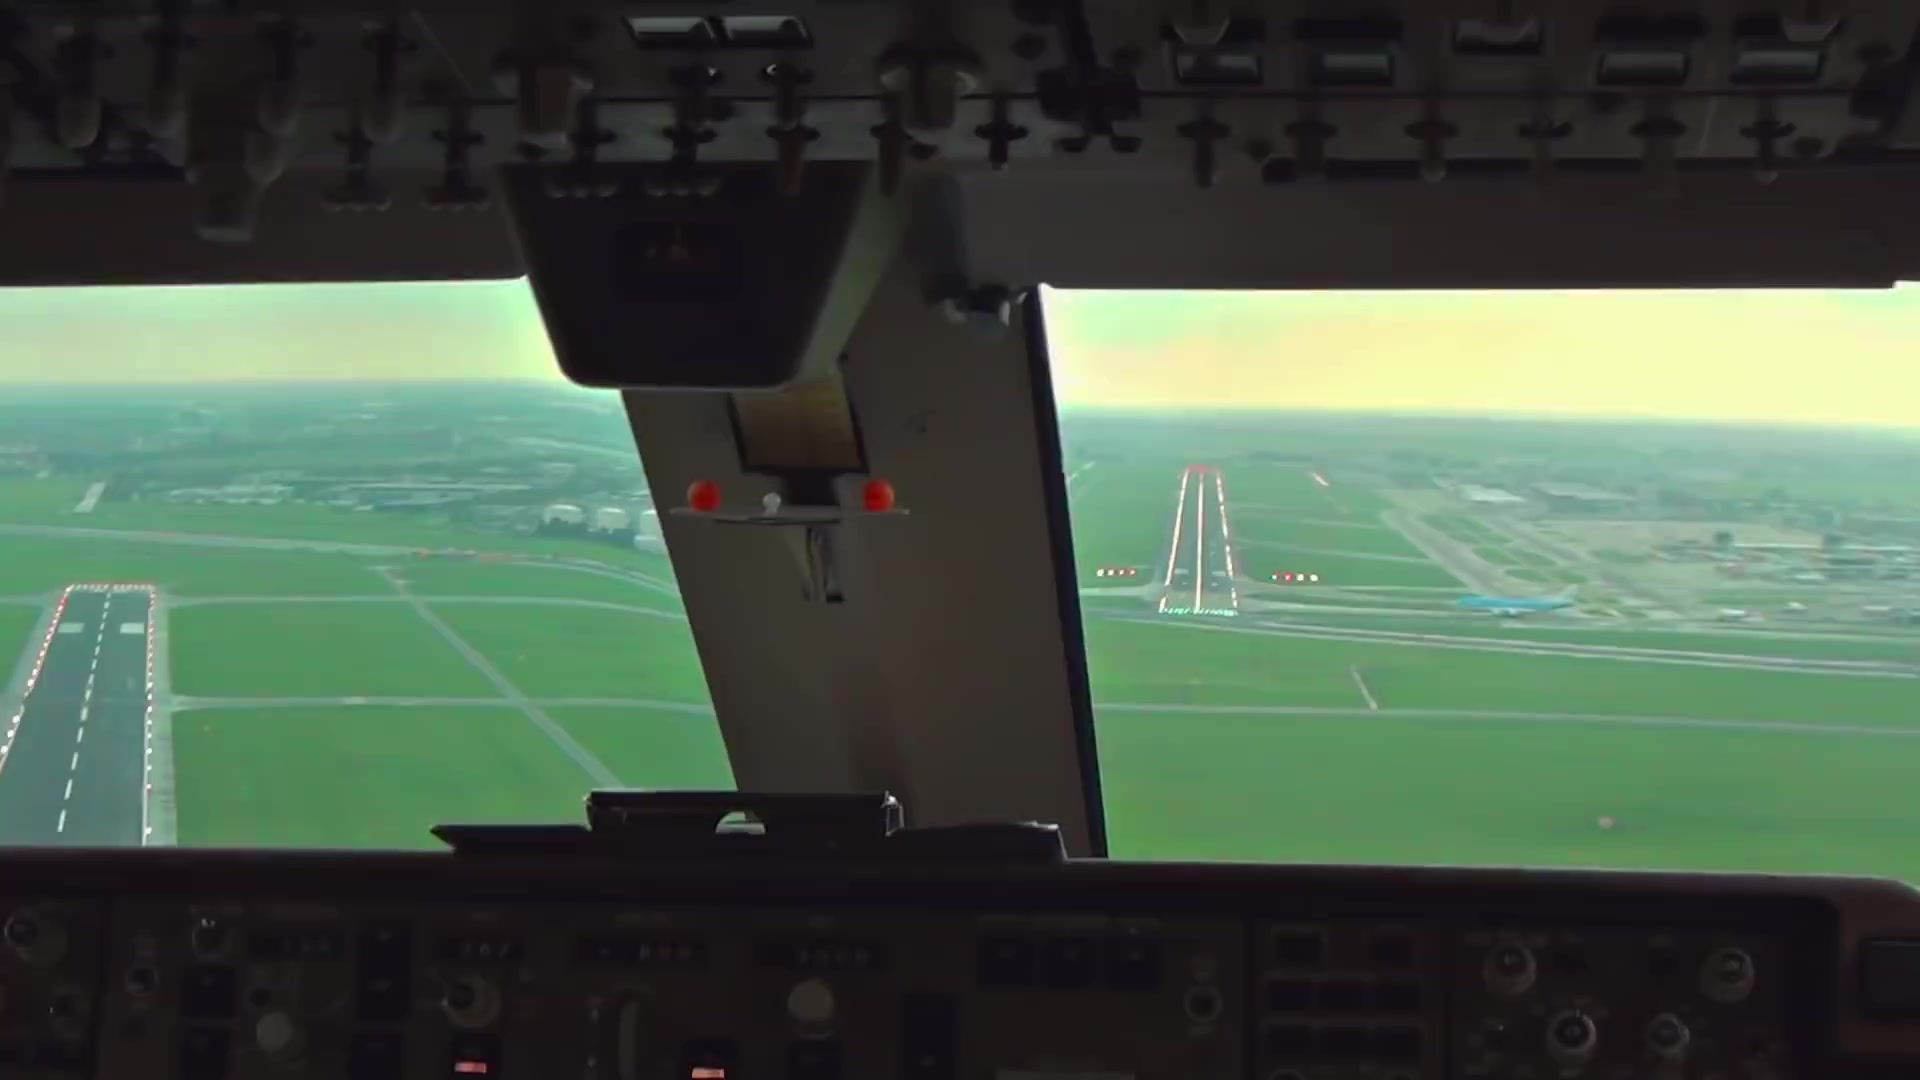entrance: (1162, 607, 1232, 617)
runway: (1, 579, 160, 849), (1158, 468, 1242, 622)
